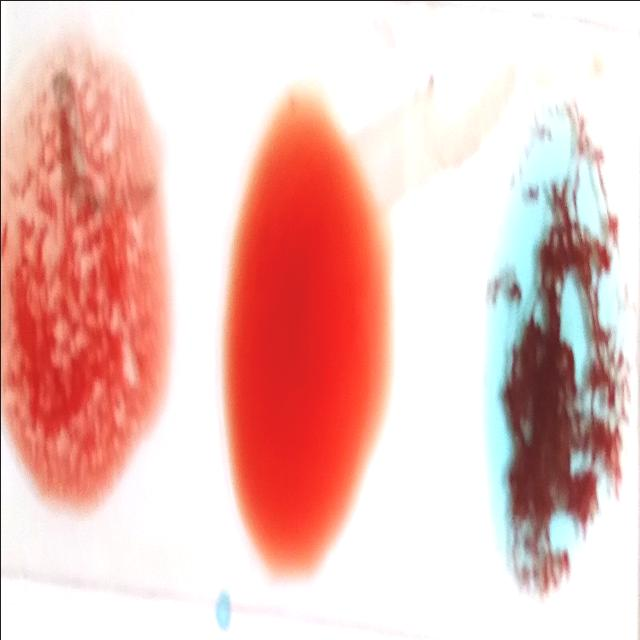A: (482, 102, 627, 586)
D: (7, 51, 156, 506)
